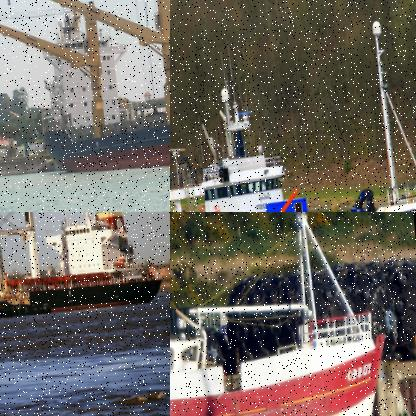Fishing Boat: (170, 12, 415, 211), (170, 212, 396, 415)
Merchant Ship: (33, 0, 169, 178), (0, 212, 164, 336)
Tugboat: (0, 232, 51, 321)
